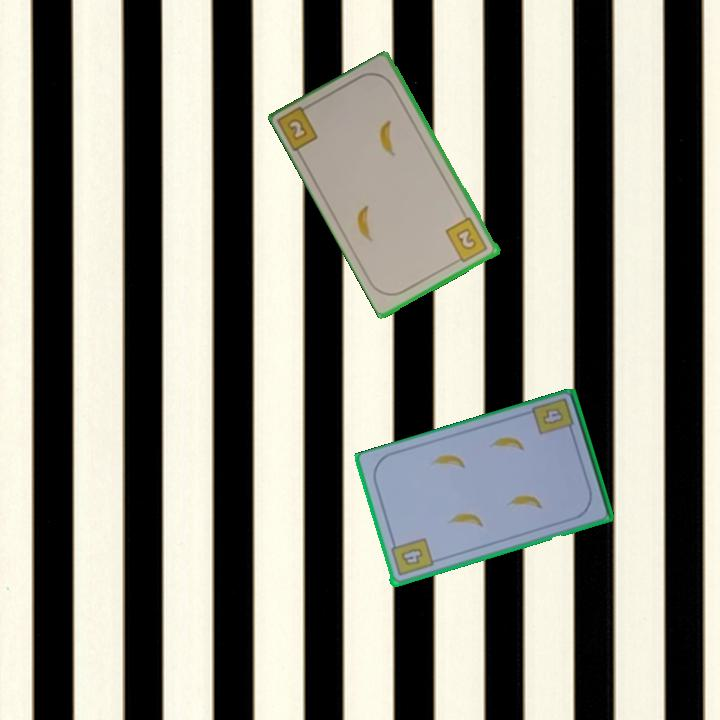2b: (442, 214, 491, 266), (276, 100, 321, 155)
4b: (387, 535, 436, 579), (539, 405, 567, 428)
